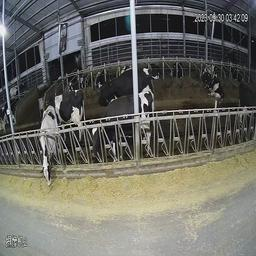cow: (44, 89, 85, 143), (37, 101, 61, 193), (101, 65, 151, 102), (234, 80, 255, 133), (201, 66, 225, 104), (70, 66, 92, 94), (169, 51, 187, 81), (198, 56, 221, 75), (150, 52, 163, 84)
